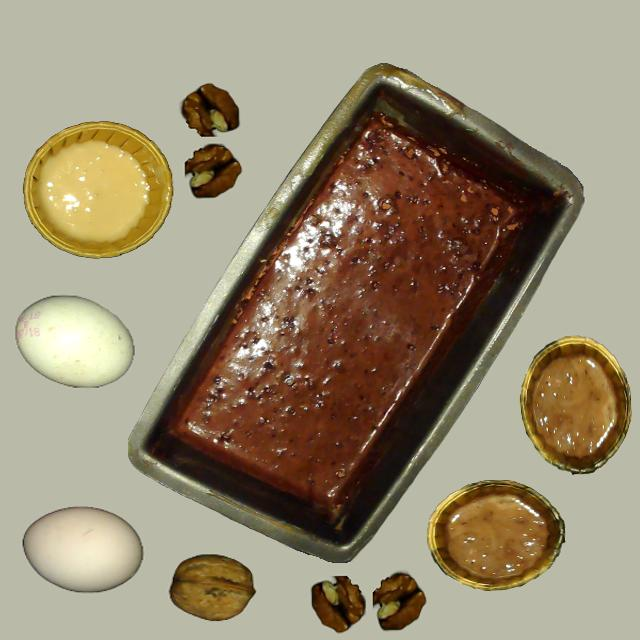Walnut: (170, 555, 254, 621)
